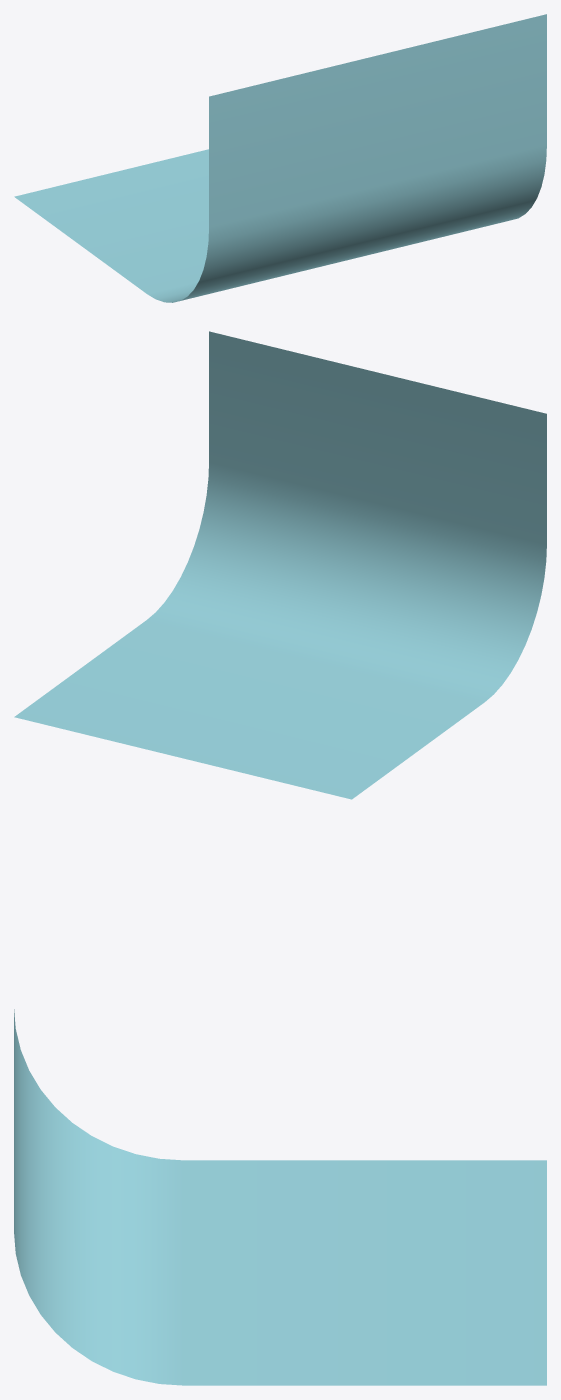
Rendered from ModelPlane.fbx.
3 renders of one model, top to bottom at view 1: azimuth 30°, elevation 25°; view 2: azimuth 150°, elevation 25°; view 3: azimuth 270°, elevation 25°, orthographic. The views are drawn at different scales.
Visible parts, largest first — view 1: Plane.003; view 2: Plane.003; view 3: Plane.003.
Boxes of the visible parts, x1,y1,x2,y2 form: Plane.003: (14, 14, 546, 302); Plane.003: (14, 331, 546, 799); Plane.003: (14, 1009, 546, 1385).
Bounding box in the file's own units: 200 × 137 × 200.
